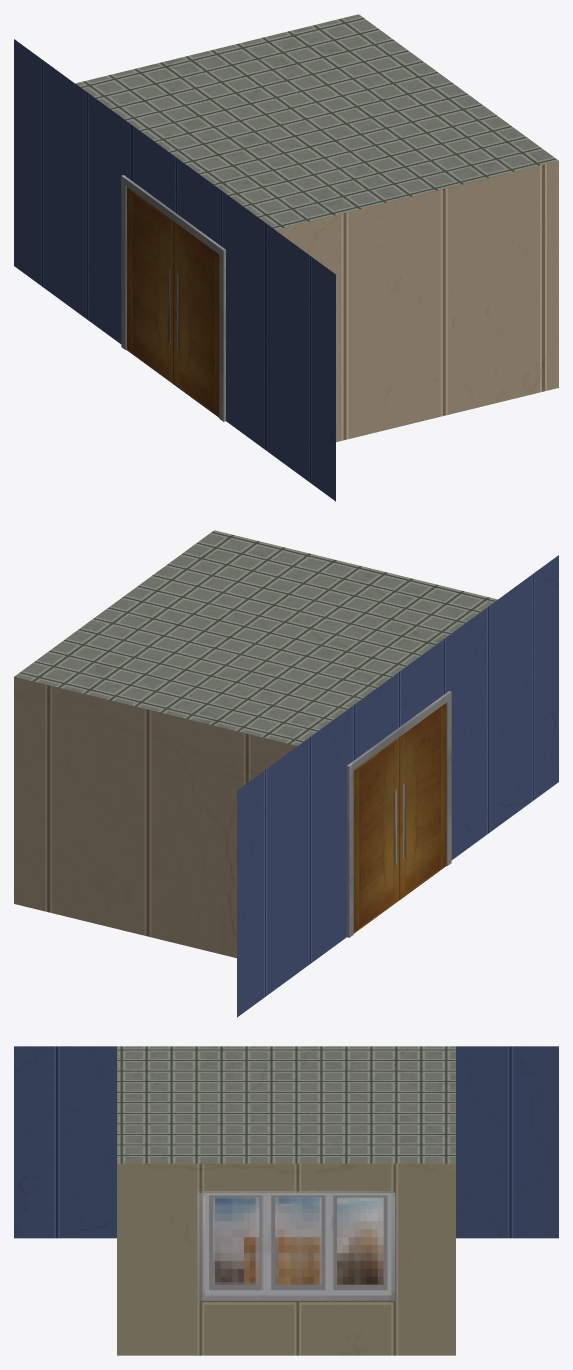
Rendered from Sala do chefe.glb.
3 renders of one model, top to bottom at view 1: azimuth 30°, elevation 25°; view 2: azimuth 150°, elevation 25°; view 3: azimuth 270°, elevation 25°, orthographic. The views are drawn at different scales.
Parts seen in each view (by area): view 1: Paredes_002, Paredes_001, Porta_002, Porta_001, Batente_001; view 2: Paredes_002, Paredes_001, Porta_001, Porta_002, Batente_001; view 3: Paredes_002, Paredes_001.
Part boxes in pixels (<box>): Paredes_002: <box>75,14,558,442</box>; Paredes_001: <box>14,39,335,501</box>; Porta_002: <box>126,187,173,383</box>; Porta_001: <box>173,221,219,417</box>; Batente_001: <box>121,175,225,421</box>; Paredes_002: <box>14,530,497,958</box>; Paredes_001: <box>237,555,558,1017</box>; Porta_001: <box>399,703,446,899</box>; Porta_002: <box>353,737,399,933</box>; Batente_001: <box>347,691,451,937</box>; Paredes_002: <box>117,1046,455,1355</box>; Paredes_001: <box>14,1046,558,1238</box>.
Bounding box in the file's own units: 4.49 × 3.4 × 8.74.
Materials: 1 (1 with a texture image).
